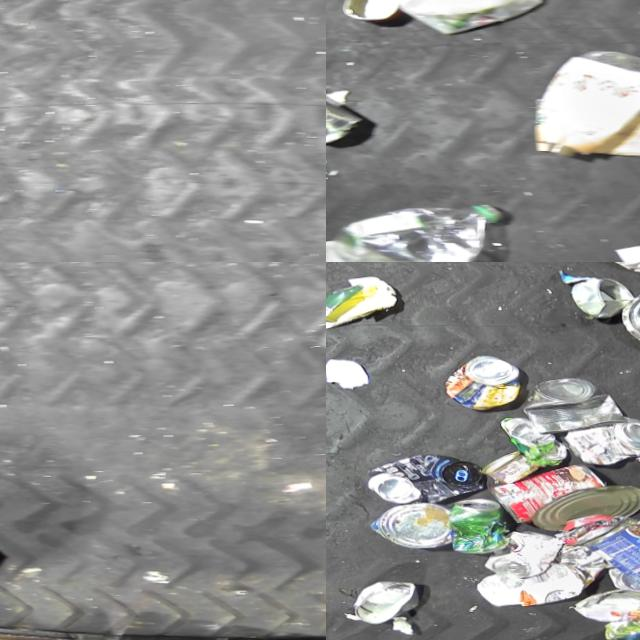can: (480, 459, 604, 523), (357, 449, 479, 504), (514, 372, 623, 433), (522, 479, 640, 529), (572, 510, 640, 582), (436, 352, 519, 408), (556, 411, 640, 463), (472, 525, 559, 575), (360, 499, 445, 548), (438, 493, 503, 550), (494, 413, 563, 463), (337, 577, 411, 623), (568, 272, 634, 316), (562, 583, 640, 619), (326, 77, 358, 150), (474, 446, 534, 482), (613, 280, 640, 352), (326, 0, 398, 22), (598, 563, 640, 588)
milk_jug: (388, 0, 551, 35), (326, 235, 446, 262)
plastic_bottle: (326, 198, 513, 262)
